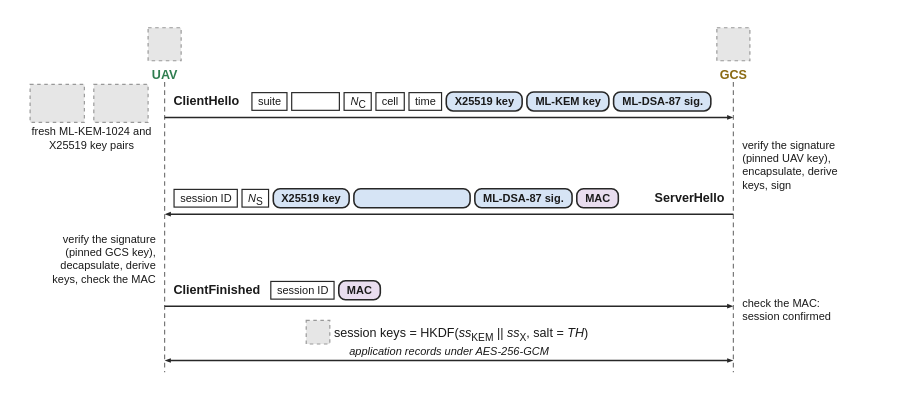
The diagram is 898 pixels wide and 404 high, and some of its shapes have lost their labels. Grey dashed boxes stand in for pictures. Each missing label, with the centre of its shape:
"ML-KEM ciphertext" goes at point 411,197.
"UAV ID" goes at point 315,100.
